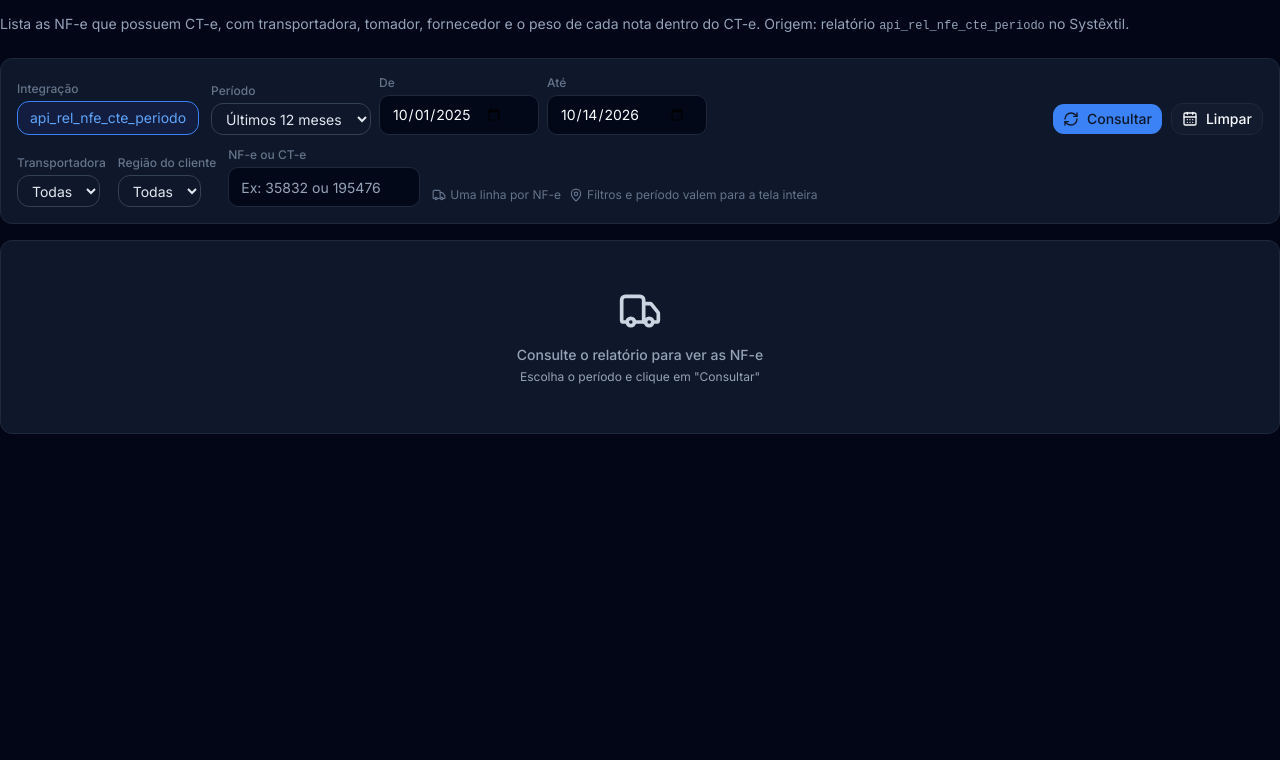
it: NfeCtePage › expande o card do CT-e e mostra as NF-e filhas
Expected: the button "api_rel_nfe_cte_periodo" is shown, [17,101,199,135]
Click the button "Consultar": coordinates (1107, 119) [1052,103,1163,135]
(page scrolled)
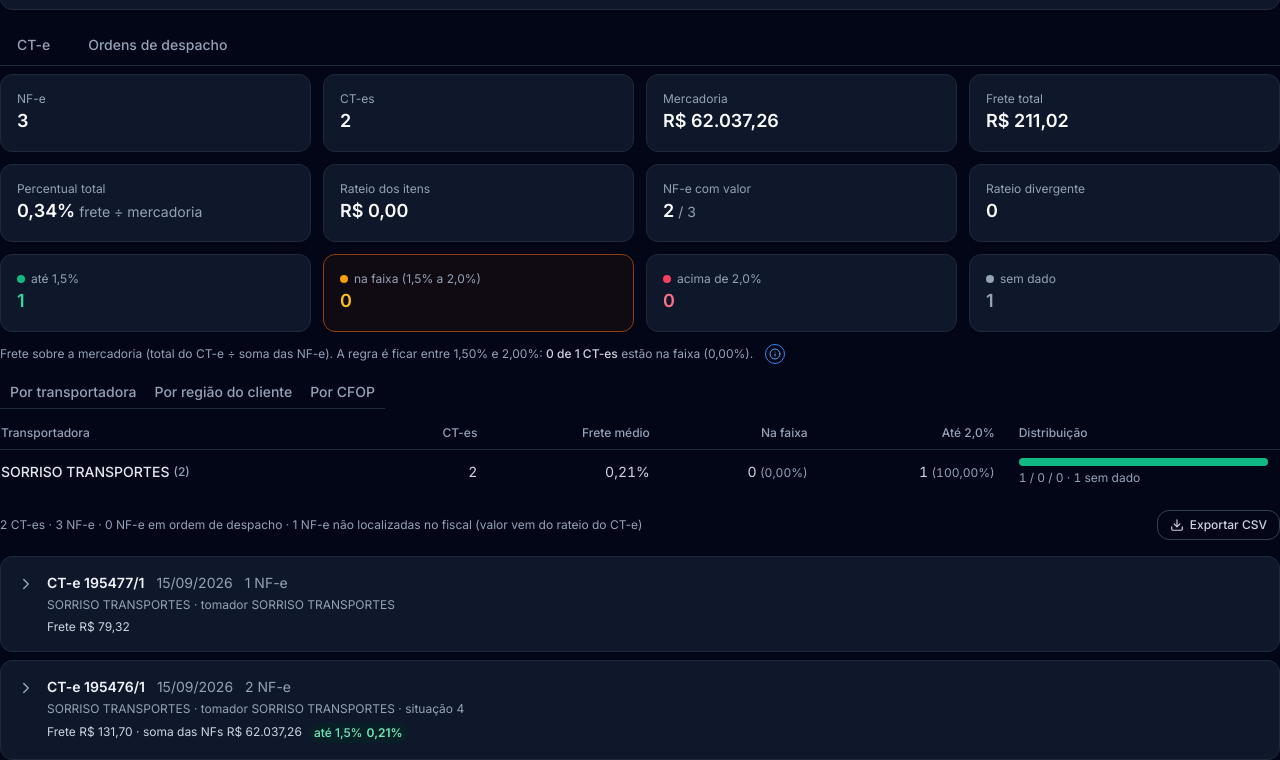
Click the button "CT-e 195476": coordinates (66, 686) [1,661,1279,759]
(page scrolled)
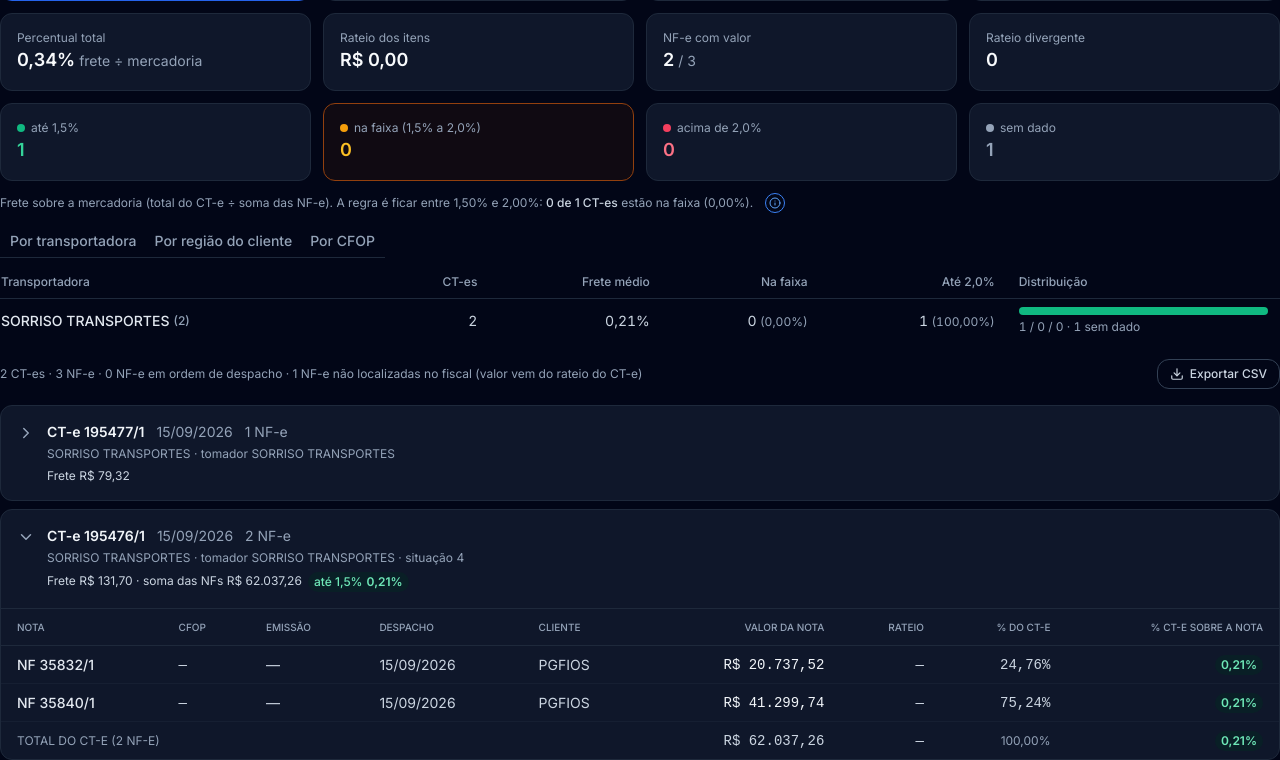
Expected: the button "CT-e 195476" is expanded, [1,510,1279,608]
Expected: the text "NF 35832/1" is shown, [1,646,163,684]
Expected: the text "NF 35840/1" is shown, [1,684,163,722]
